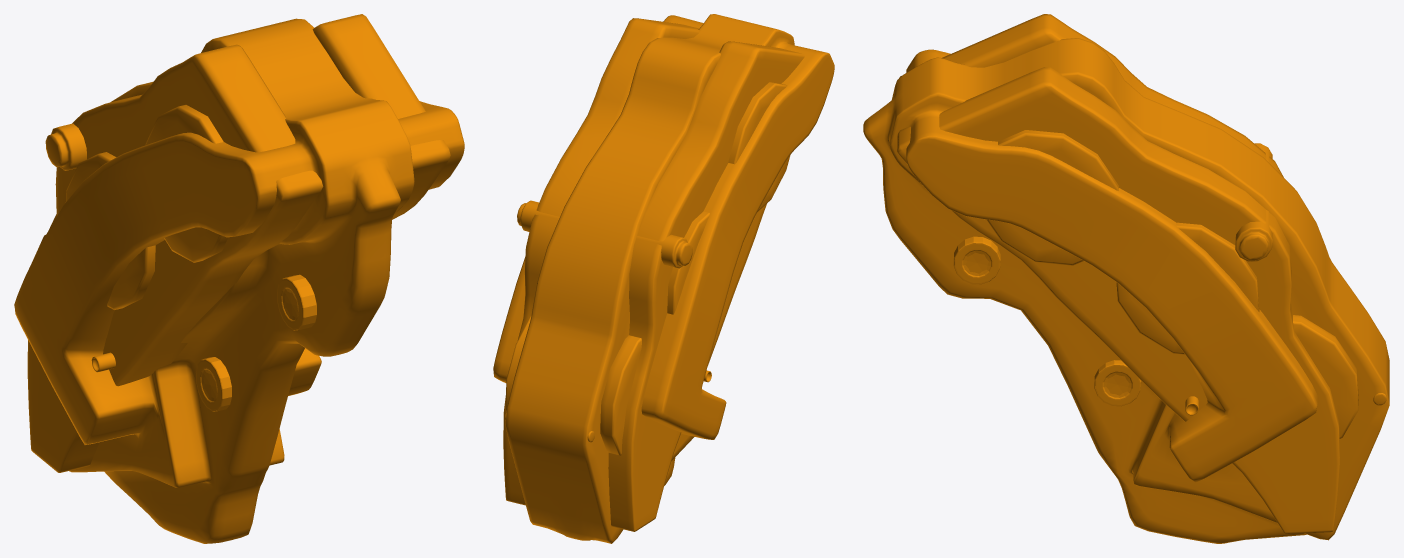
The model's file is goldbreaks.fbx.
3 renders of one model, left to right at view 1: azimuth 30°, elevation 25°; view 2: azimuth 150°, elevation 25°; view 3: azimuth 270°, elevation 25°, orthographic. The views are drawn at different scales.
Visible parts, largest first — view 1: Circle.003; view 2: Circle.003; view 3: Circle.003.
Part boxes in pixels (x1,y1,x2,y2): Circle.003: (14,14,464,543); Circle.003: (493,14,834,543); Circle.003: (863,14,1389,543).
Size of the model in its own units: 29.25 by 69.86 by 68.25.
